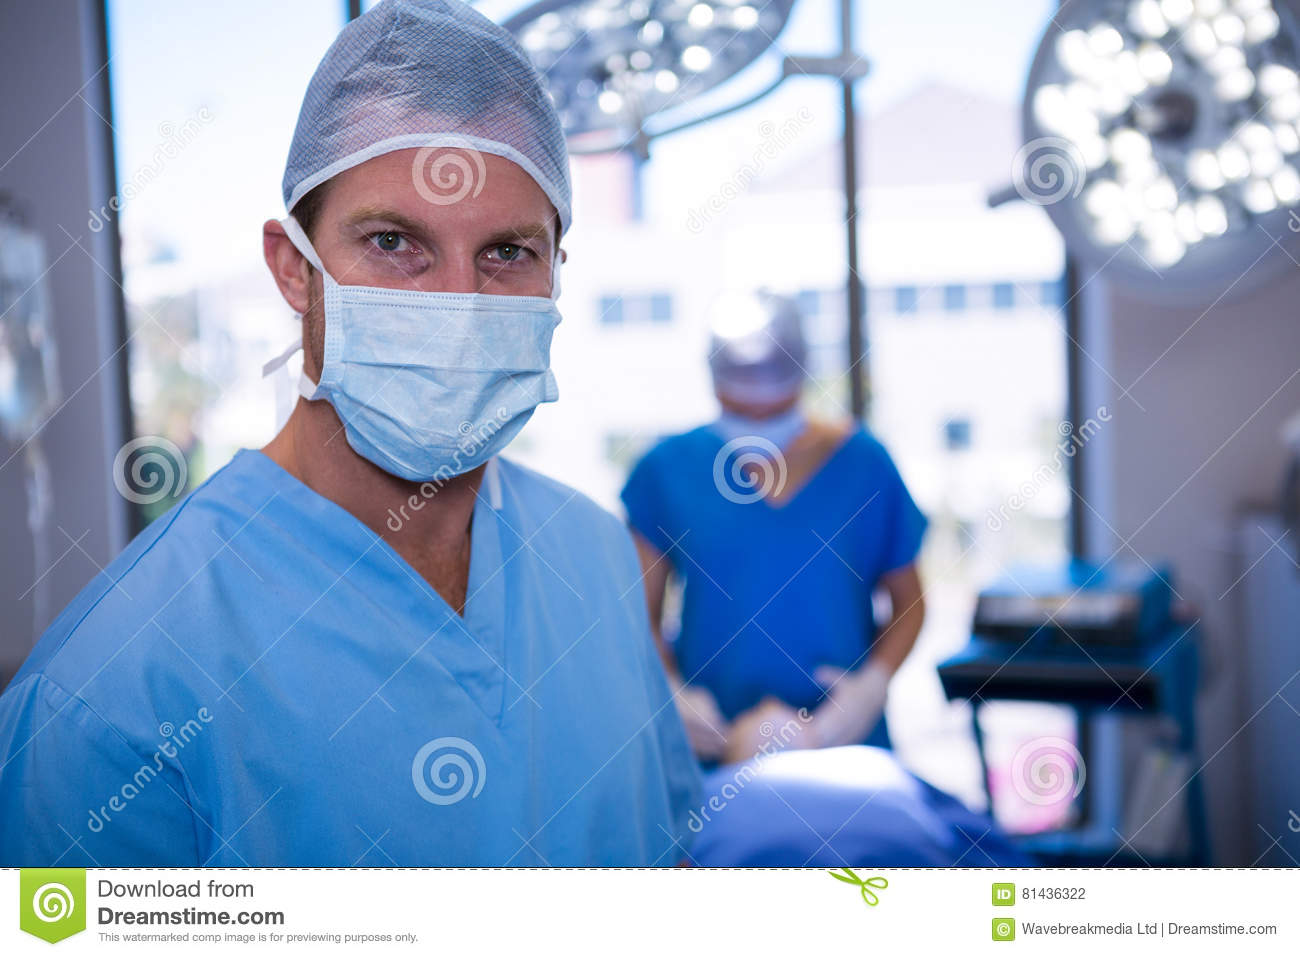mask: (313, 276, 561, 478)
